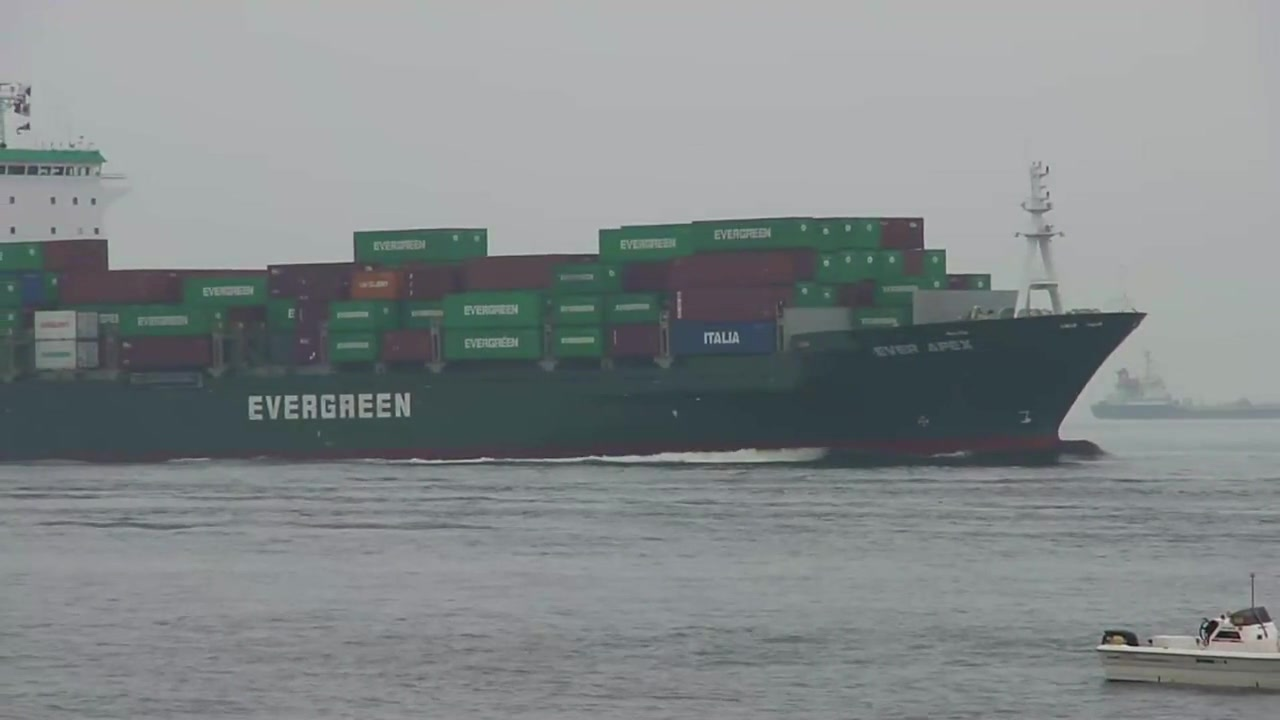boat: (1, 76, 1148, 464)
